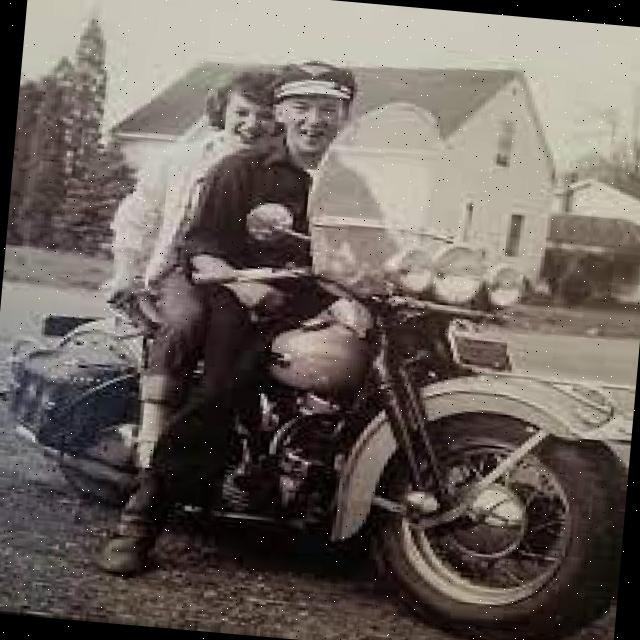No helmet: (271, 71, 360, 163)
